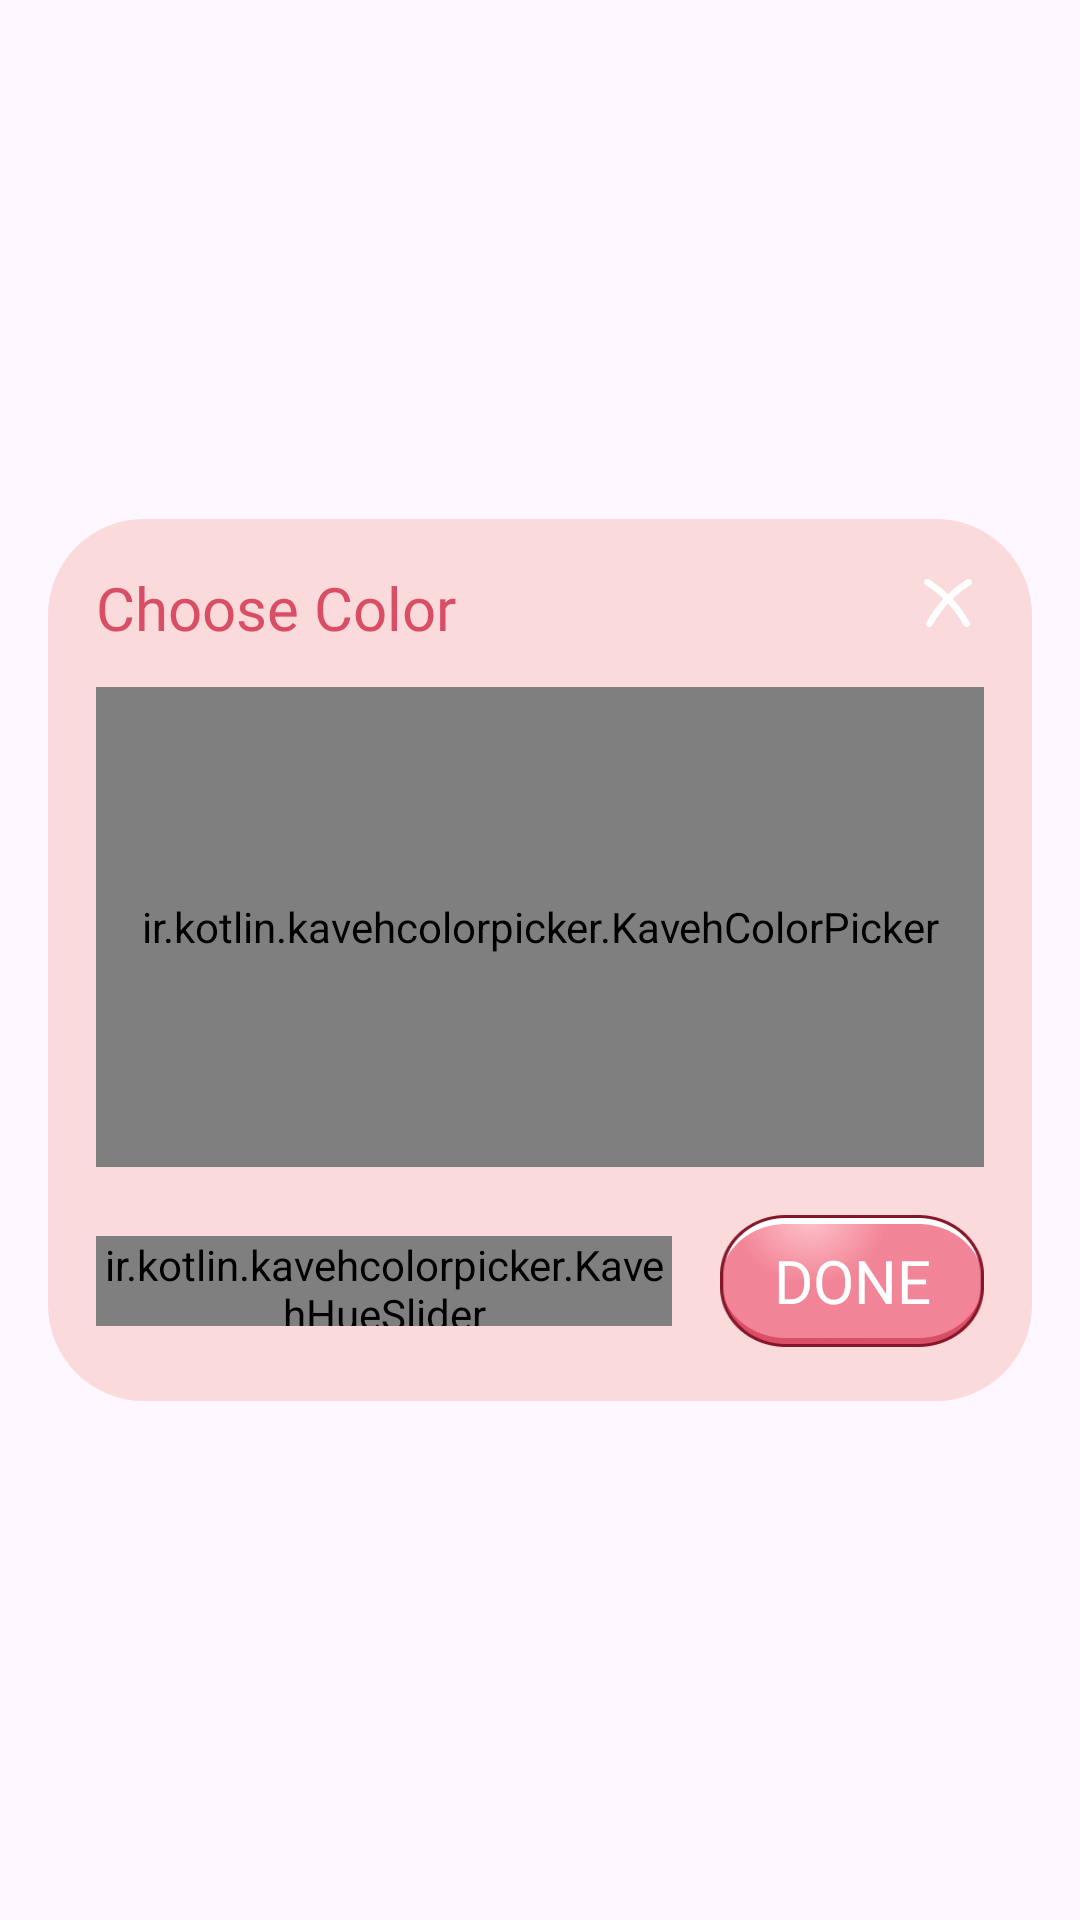

Named icons in this screenshot (1080px x 1920px) and their centers, [x,y]:
close pick: [948,603]
